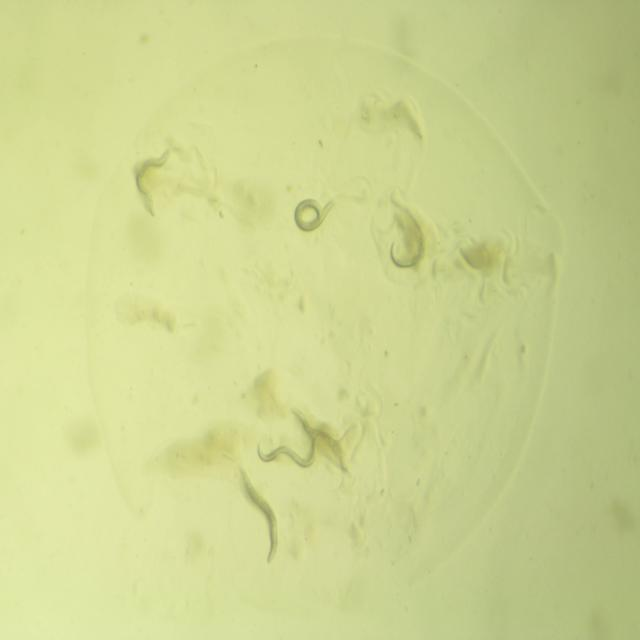worm: (229, 453, 288, 579), (284, 396, 356, 487), (372, 186, 433, 288), (120, 139, 180, 224), (284, 178, 352, 246), (245, 418, 324, 476)
